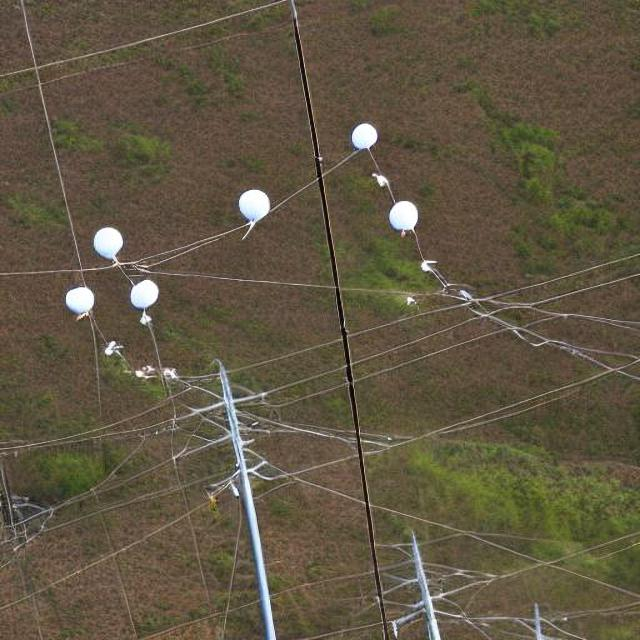balloon: (86, 219, 130, 263), (59, 286, 110, 320), (125, 274, 168, 312), (346, 114, 382, 150), (236, 187, 270, 224), (387, 198, 418, 230)
